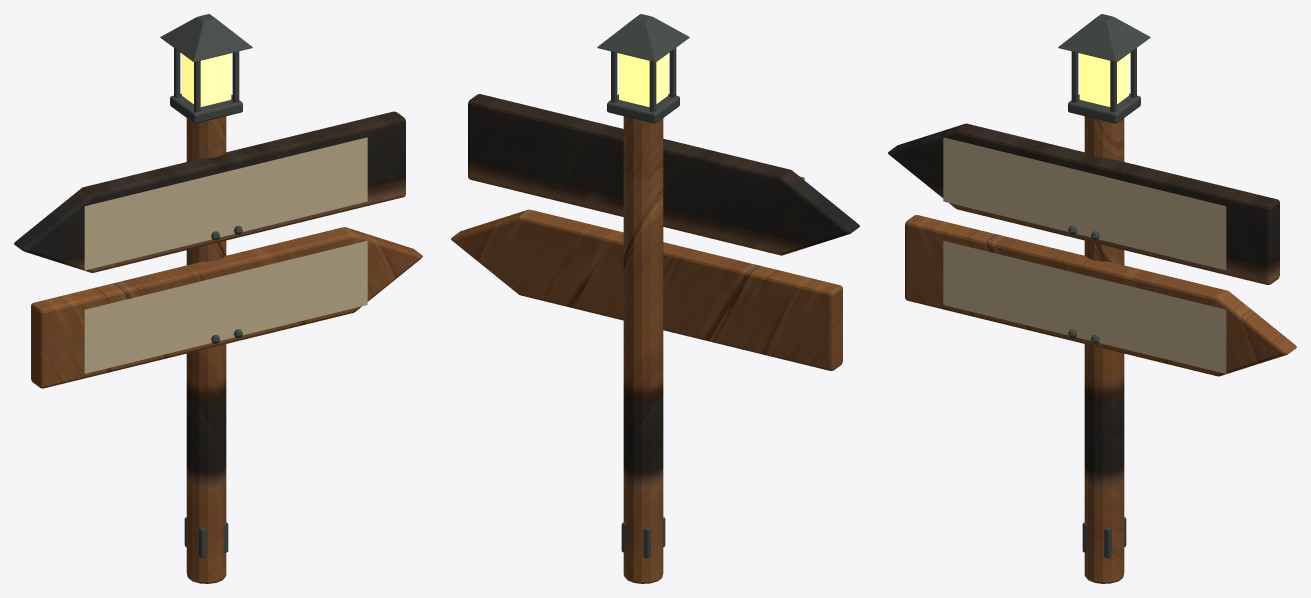
Rendered from signpost.glb.
The picture shows the model from 3 angles, left to right: view 1: azimuth 30°, elevation 25°; view 2: azimuth 150°, elevation 25°; view 3: azimuth 330°, elevation 25°; orthographic projection.
Visible parts, largest first — view 1: branch lettering, main lettering, Hand-cut main finger, Hand-cut branch finger, Fingerpost · rain-dark oak, Fingerpost · forged iron, Fingerpost · warm glass; view 2: Hand-cut branch finger, Hand-cut main finger, Fingerpost · rain-dark oak, Fingerpost · forged iron, Fingerpost · warm glass; view 3: branch lettering, main lettering, Hand-cut main finger, Hand-cut branch finger, Fingerpost · rain-dark oak, Fingerpost · forged iron, Fingerpost · warm glass.
Part boxes in pixels (x1=…): branch lettering: x1=84, y1=137, x2=367, y2=270; main lettering: x1=84, y1=240, x2=367, y2=373; Hand-cut main finger: x1=31, y1=227, x2=422, y2=388; Hand-cut branch finger: x1=14, y1=111, x2=405, y2=272; Fingerpost · rain-dark oak: x1=186, y1=116, x2=226, y2=583; Fingerpost · forged iron: x1=160, y1=14, x2=252, y2=558; Fingerpost · warm glass: x1=182, y1=53, x2=231, y2=106; Hand-cut branch finger: x1=468, y1=94, x2=859, y2=255; Hand-cut main finger: x1=451, y1=209, x2=842, y2=370; Fingerpost · rain-dark oak: x1=623, y1=116, x2=663, y2=583; Fingerpost · forged iron: x1=597, y1=14, x2=689, y2=558; Fingerpost · warm glass: x1=619, y1=53, x2=668, y2=107; branch lettering: x1=943, y1=137, x2=1226, y2=270; main lettering: x1=943, y1=240, x2=1226, y2=373; Hand-cut main finger: x1=905, y1=215, x2=1296, y2=376; Hand-cut branch finger: x1=888, y1=123, x2=1279, y2=284; Fingerpost · rain-dark oak: x1=1084, y1=116, x2=1124, y2=583; Fingerpost · forged iron: x1=1058, y1=14, x2=1150, y2=558; Fingerpost · warm glass: x1=1079, y1=53, x2=1128, y2=106.
Bounding box in the file's own units: 3 × 4 × 0.5183.
4 materials, 1 textured.
